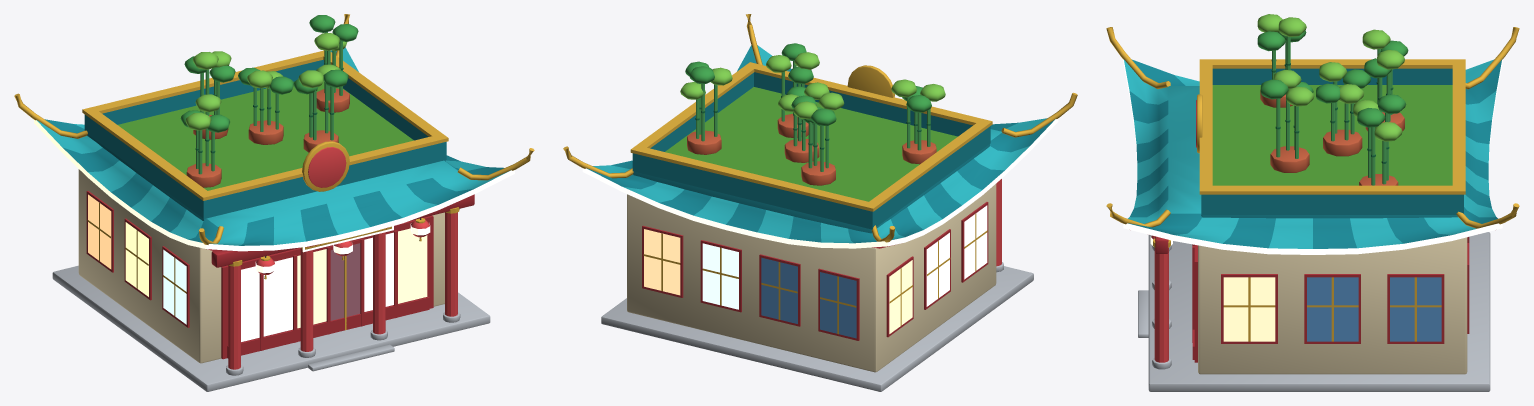
Rendered from restaurante_jardim.glb.
The picture shows the model from 3 angles, left to right: view 1: azimuth 30°, elevation 25°; view 2: azimuth 150°, elevation 25°; view 3: azimuth 270°, elevation 25°; orthographic projection. The views are drawn at different scales.
Visible parts, largest first — view 1: restaurante_jardim; view 2: restaurante_jardim; view 3: restaurante_jardim.
Boxes of the visible parts, x1=… form: restaurante_jardim: x1=14, y1=14, x2=534, y2=391; restaurante_jardim: x1=563, y1=14, x2=1077, y2=391; restaurante_jardim: x1=1106, y1=14, x2=1519, y2=391.
Size of the model in its own units: 12.96 by 8.91 by 12.58.
8 materials, 2 textured.
